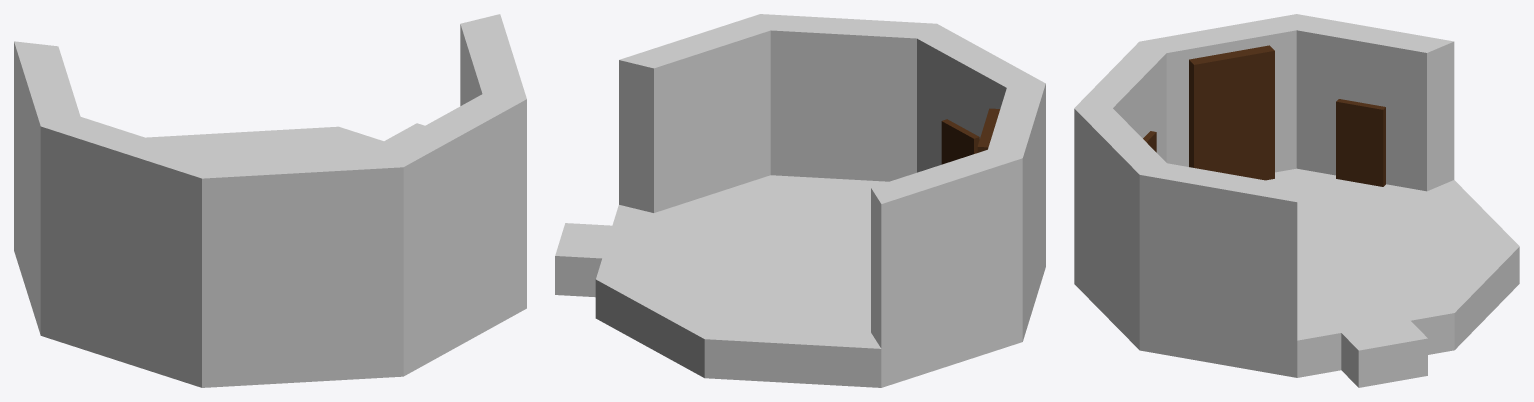
The model's file is CastleHub2.fbx.
The picture shows the model from 3 angles, left to right: view 1: azimuth 30°, elevation 25°; view 2: azimuth 150°, elevation 25°; view 3: azimuth 270°, elevation 25°; orthographic projection. The views are drawn at different scales.
Parts seen in each view (by area): view 1: Cylinder.072; view 2: Cylinder.072, Cube.131, Cube.143; view 3: Cylinder.072, Cube.143, Cube.144.
Boxes of the visible parts, x1,y1,x2,y2 form: Cylinder.072: (14, 14, 526, 387); Cylinder.072: (555, 14, 1045, 387); Cube.131: (941, 119, 979, 164); Cube.143: (977, 108, 1000, 152); Cylinder.072: (1074, 14, 1519, 387); Cube.143: (1189, 45, 1274, 180); Cube.144: (1336, 99, 1385, 186).
Size of the model in its own units: 6 by 2.48 by 5.7.
